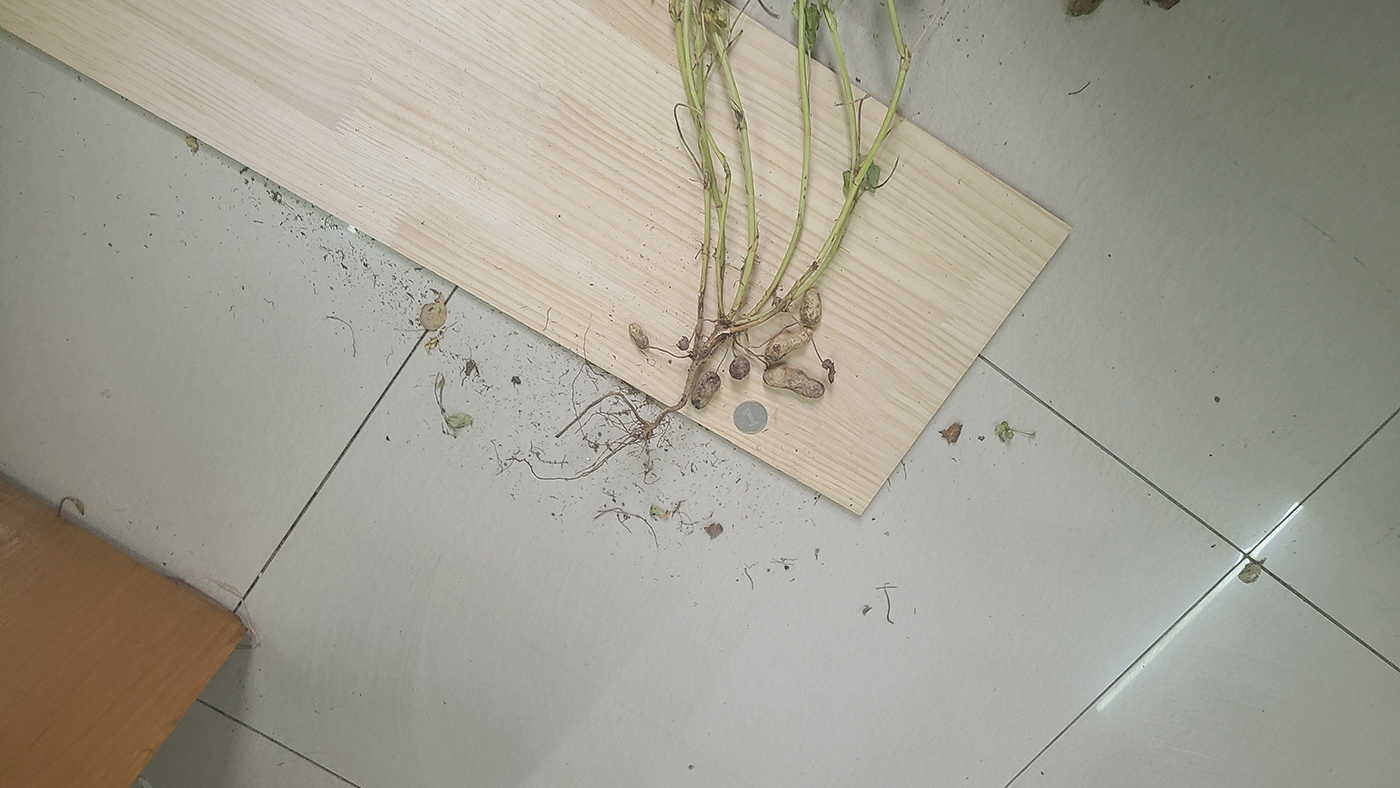h: (801, 288, 822, 327)
l: (763, 365, 824, 399), (765, 326, 814, 363), (690, 371, 721, 410), (729, 356, 750, 381), (629, 323, 649, 349), (823, 359, 836, 385), (676, 335, 689, 351)
